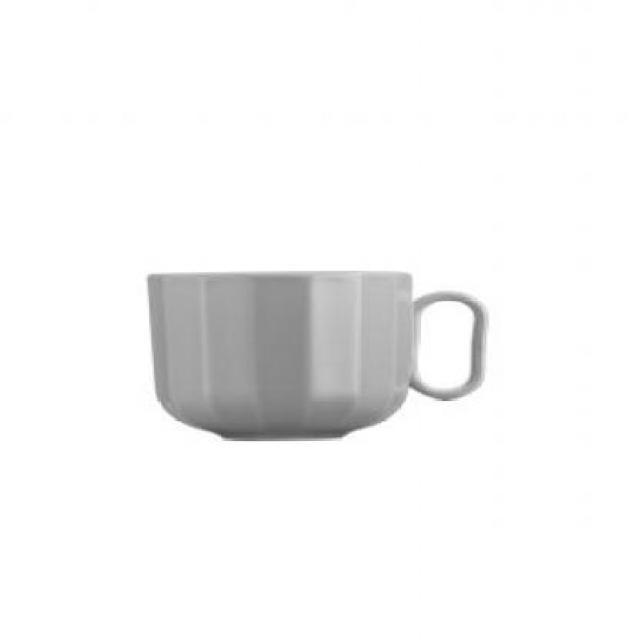taza: (143, 272, 490, 446)
